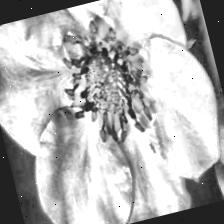Blossom Blight: (48, 9, 165, 154)
